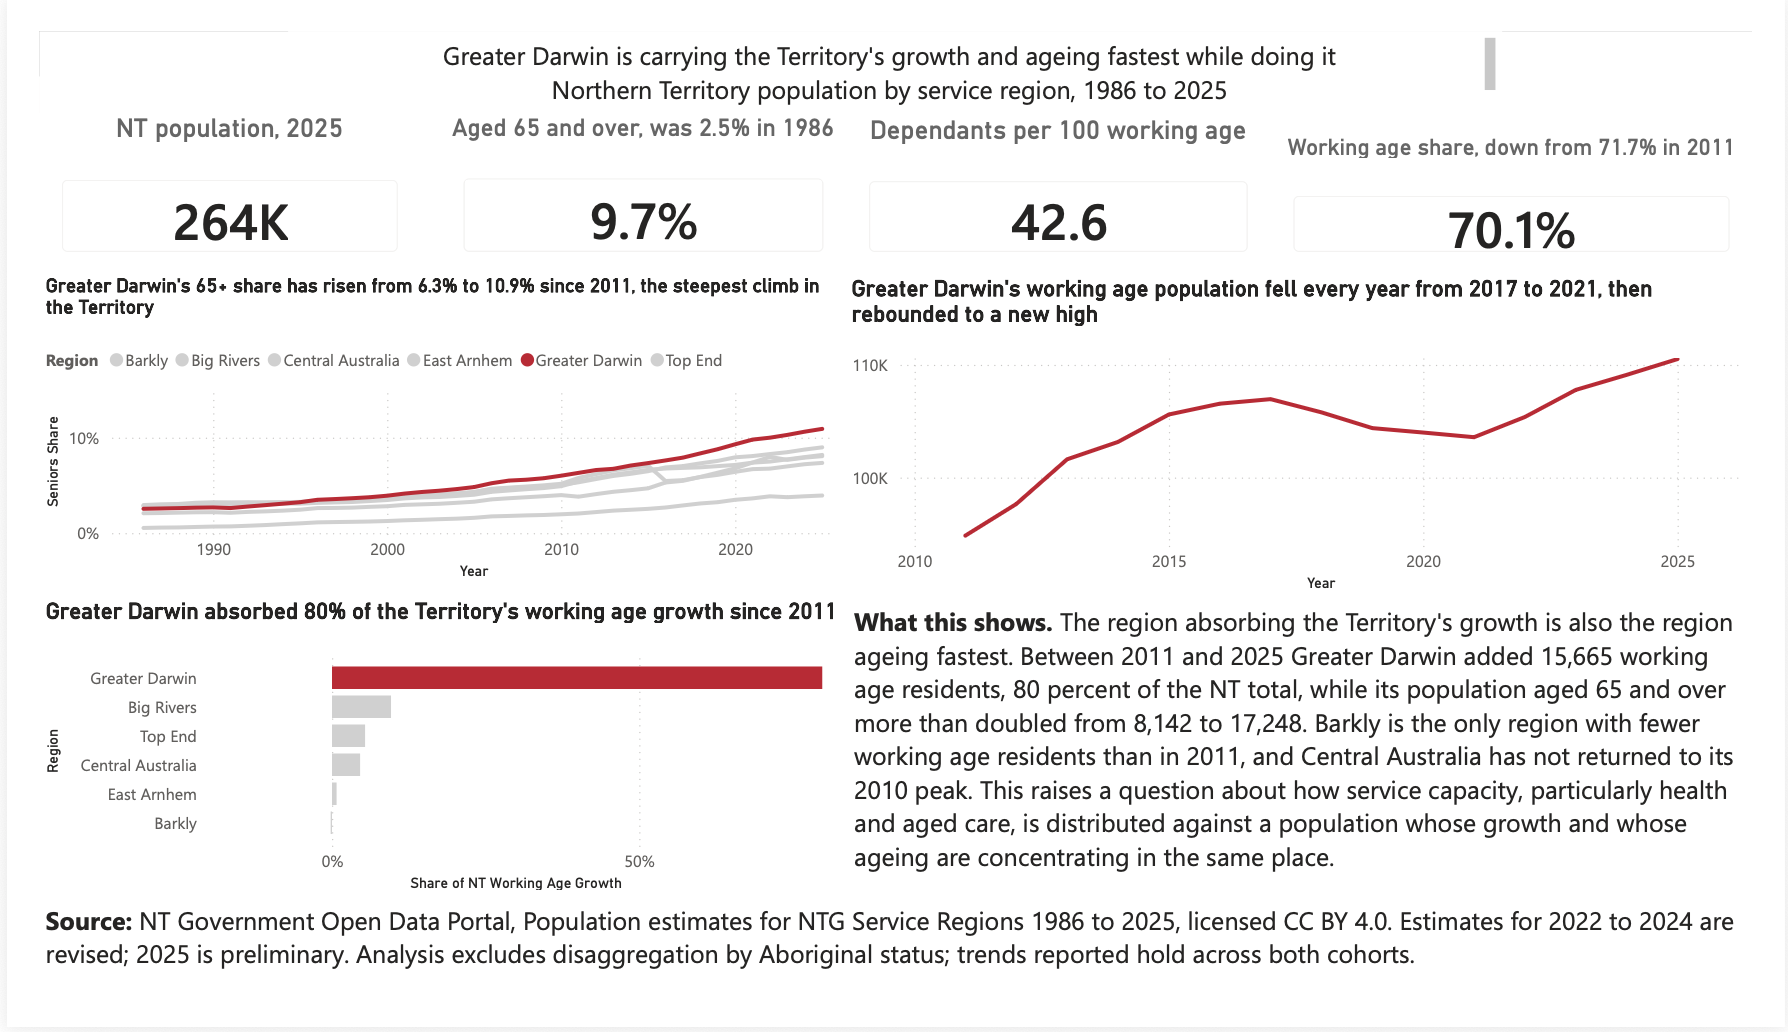

This screenshot's page, from the dashboard's own definition file:
{"tool":"powerbi","page":{"name":"Page 2","canvas":[1280,720],"ordinal":0},"visuals":[{"type":"textbox","box":[185.9,0,906.9,61.1],"z":0},{"type":"cardVisual","title":"NT population, 2025","fields":{"Data":["_Measures.Total Population"]},"box":[0,61,285.2,120.7],"z":1000},{"type":"cardVisual","title":"Dependants per 100 working age","fields":{"Data":["_Measures.Dependency Ratio"]},"box":[602.8,62.4,317.3,119.5],"z":2000},{"type":"cardVisual","title":"Working age share, down from 71.7% in 2011","fields":{"Data":["_Measures.Working Age Share"]},"box":[920.2,75.7,359.8,106.2],"z":3000},{"type":"cardVisual","title":"Aged 65 and over, was 2.5% in 1986","fields":{"Data":["_Measures.Seniors Share"]},"box":[300.1,61.1,302.7,120.8],"z":4000},{"type":"lineChart","title":"Greater Darwin''s 65+ share has risen from 6.3% to 10.9% since 2011, the steepest climb in the Territory","fields":{"Category":["Population.Year"],"Y":["_Measures.Seniors Share"],"Series":["Population.Region"]},"box":[0,181.7,602.5,232.4],"z":5000},{"type":"clusteredBarChart","title":"Greater Darwin absorbed 80% of the Territory''s working age growth since 2011","fields":{"Category":["Population.Region"],"Y":["_Measures.Share of NT Working Age Growth"]},"box":[0,423.1,603,224],"z":6000},{"type":"lineChart","title":"Greater Darwin''s working age population fell every year from 2017 to 2021, then rebounded to a new high","fields":{"Category":["Population.Year"],"Y":["_Measures.Working Age Population"]},"box":[602.2,181.7,677.6,241],"z":7000},{"type":"textbox","box":[603.5,423.1,676.5,224.2],"z":8000},{"type":"textbox","box":[0,646.3,1280,73.5],"z":8001}]}

Visuals, with their boxes in screenshot pixels (x1, y1, x2, y2), scaled from the page's 1280x720 canvas onto the 1788x1032 screenshot:
textbox: bbox=(260, 0, 1527, 88)
"NT population, 2025" cardVisual: bbox=(0, 87, 398, 260)
"Dependants per 100 working age" cardVisual: bbox=(842, 89, 1285, 261)
"Working age share, down from 71.7% in 2011" cardVisual: bbox=(1285, 109, 1787, 261)
"Aged 65 and over, was 2.5% in 1986" cardVisual: bbox=(419, 88, 842, 261)
"Greater Darwin''s 65+ share has risen from 6.3% to 10.9% since 2011, the steepest climb in the Territory" lineChart: bbox=(0, 260, 842, 594)
"Greater Darwin absorbed 80% of the Territory''s working age growth since 2011" clusteredBarChart: bbox=(0, 606, 842, 928)
"Greater Darwin''s working age population fell every year from 2017 to 2021, then rebounded to a new high" lineChart: bbox=(841, 260, 1787, 606)
textbox: bbox=(843, 606, 1787, 928)
textbox: bbox=(0, 926, 1787, 1031)
